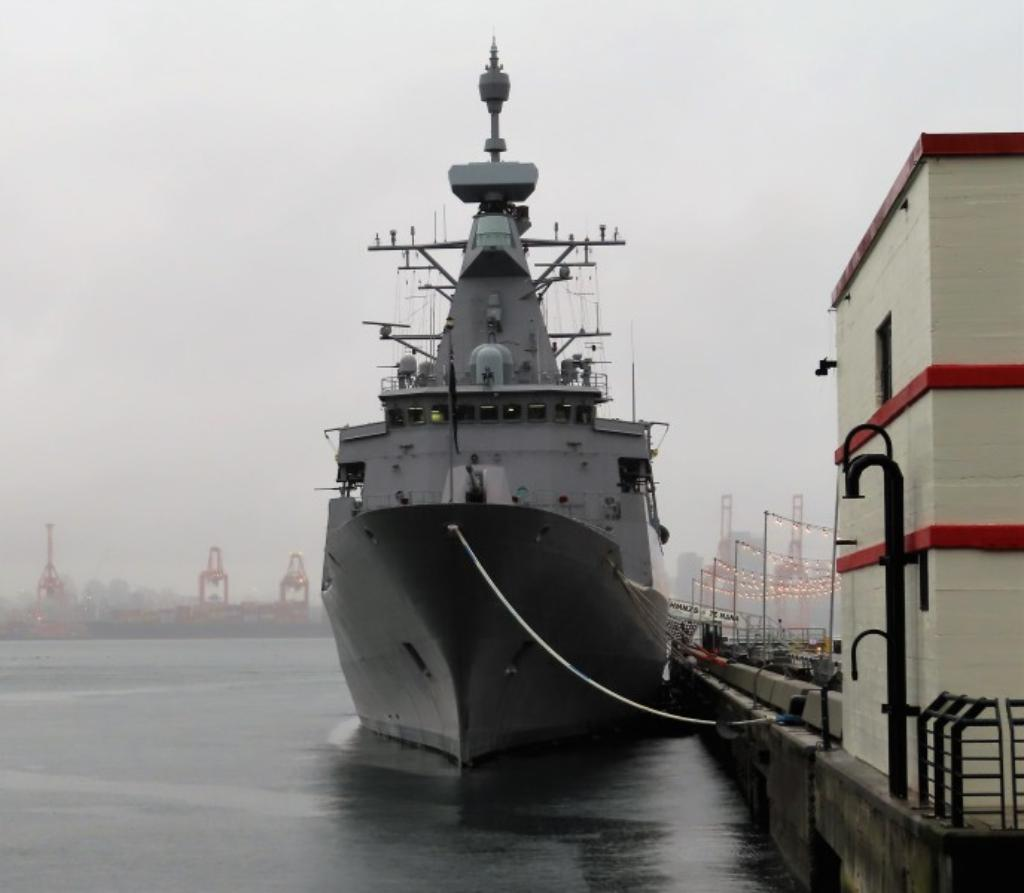Warship: (309, 33, 693, 772)
